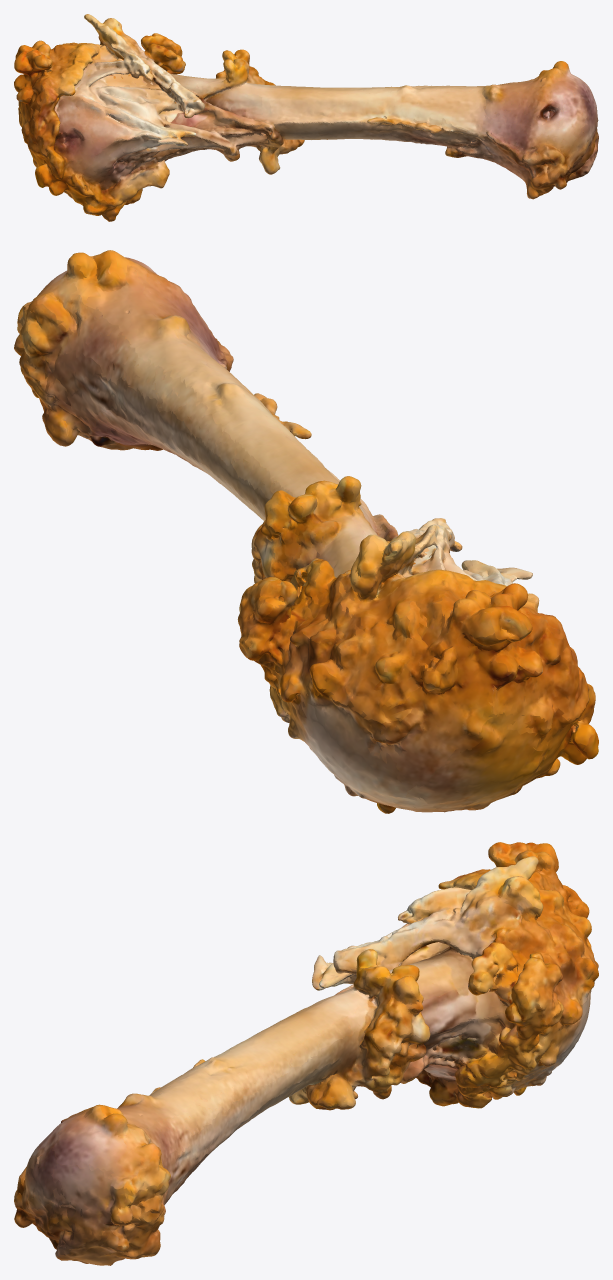
The picture shows the model from 3 angles, top to bottom: view 1: azimuth 30°, elevation 25°; view 2: azimuth 150°, elevation 25°; view 3: azimuth 270°, elevation 25°; orthographic projection. The views are drawn at different scales.
Visible parts, largest first — view 1: FoodRedoV2Alignment-0; view 2: FoodRedoV2Alignment-0; view 3: FoodRedoV2Alignment-0.
Part boxes in pixels (bbox=[...]): FoodRedoV2Alignment-0: bbox=[14, 14, 598, 221]; FoodRedoV2Alignment-0: bbox=[14, 250, 598, 813]; FoodRedoV2Alignment-0: bbox=[14, 842, 598, 1265].
Bounding box in the file's own units: 0.1284 × 0.0465 × 0.1021.
1 material, 1 textured.
